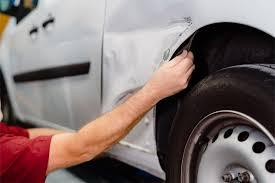scratch: (155, 13, 200, 62)
